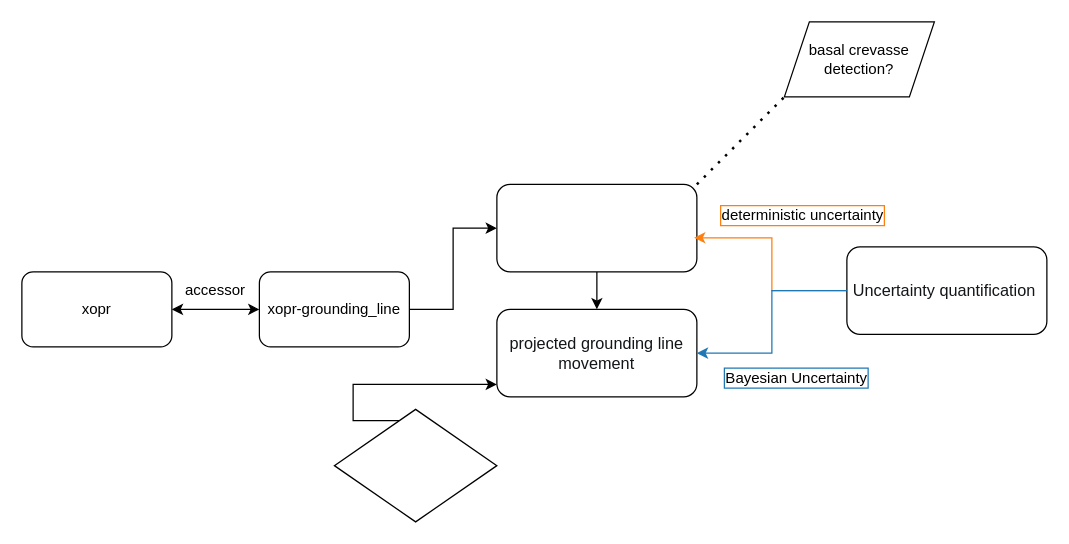
The diagram is 1069 pixels wide and 544 high, and some of its shapes have lost their labels. The centre of each missing label's shape, as x and y in pixels:
"arcticDEM STAC" goes at (415,465).
"automated grounding line detection" goes at (596,227).
